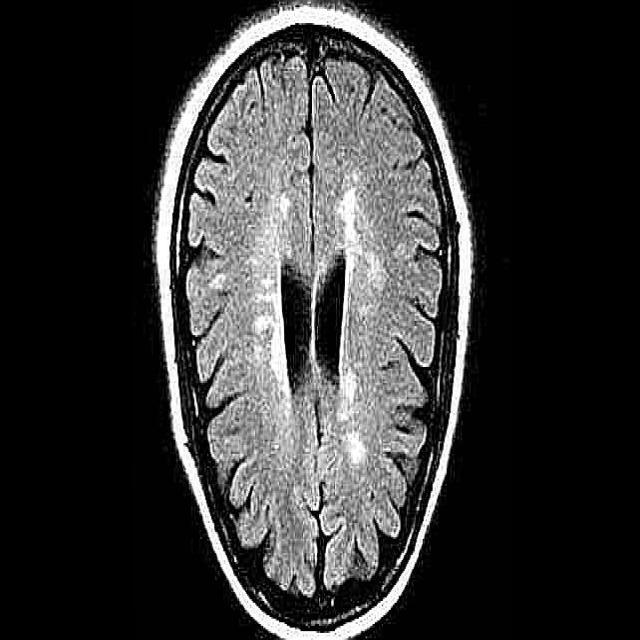notumor: (152, 7, 474, 638)
